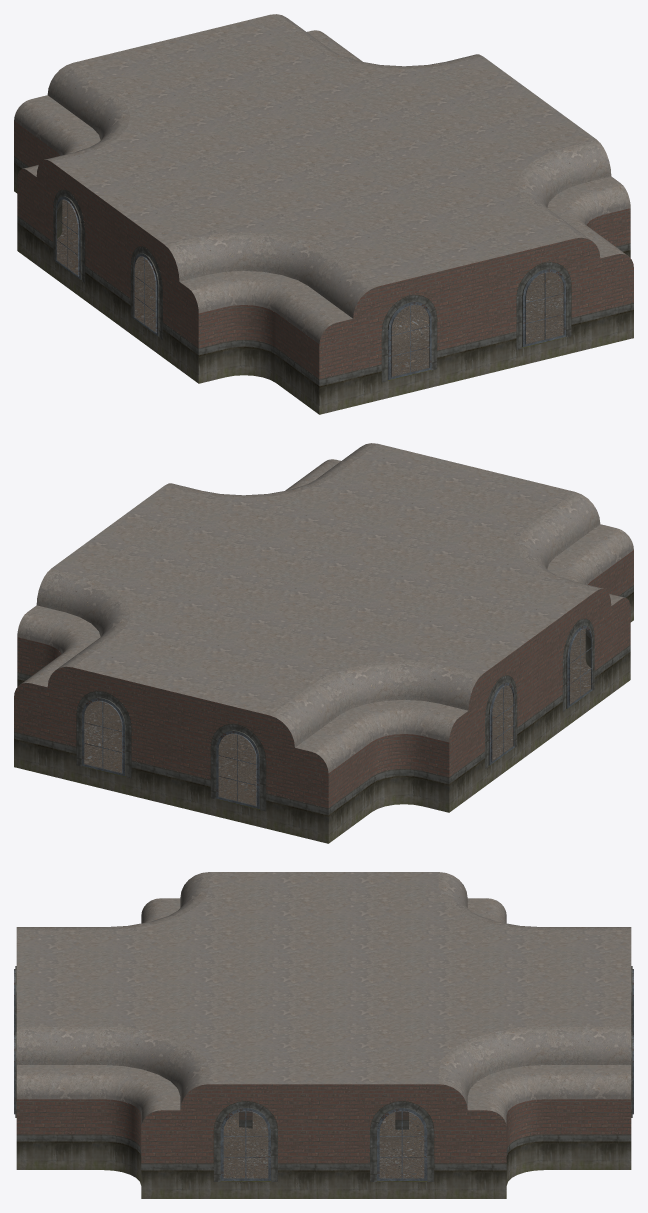
Rendered from mostoda1.glb.
The picture shows the model from 3 angles, top to bottom: view 1: azimuth 30°, elevation 25°; view 2: azimuth 150°, elevation 25°; view 3: azimuth 270°, elevation 25°; orthographic projection.
Parts seen in each view (by area): view 1: Material2 (×6); view 2: Material2 (×6); view 3: Material2 (×6).
Part boxes in pixels (bbox=[...]): Material2 (×6): bbox=[14, 14, 633, 414]; Material2 (×6): bbox=[14, 443, 633, 843]; Material2 (×6): bbox=[14, 872, 633, 1198].
Size of the model in its own units: 623 by 163 by 762.
6 materials, 5 textured.
